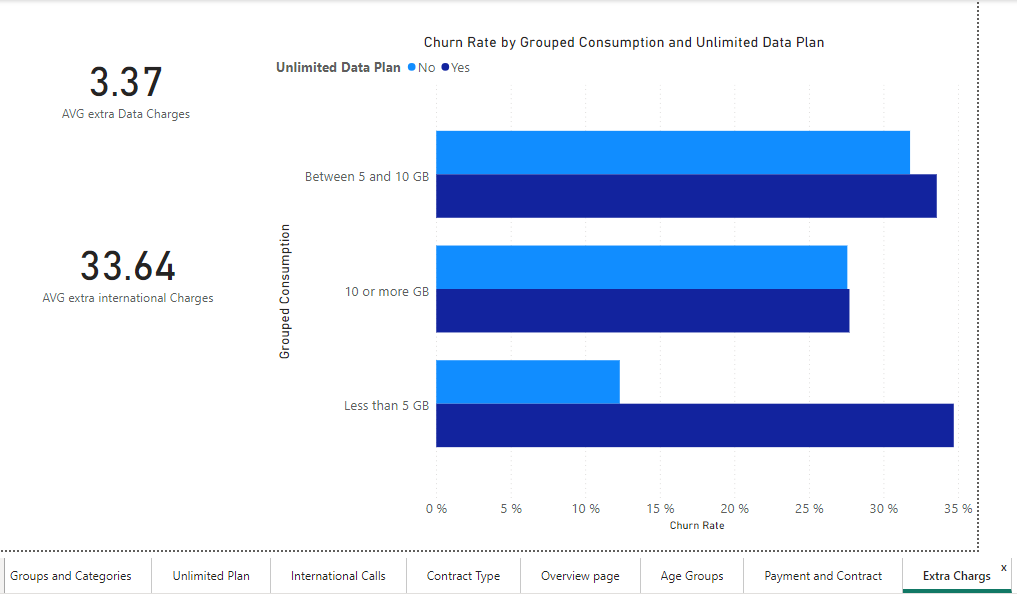

The page's visual inventory and layout, read from the dashboard file:
{"tool":"powerbi","page":{"name":"Extra Chargs","canvas":[1280,720],"ordinal":8},"visuals":[{"type":"clusteredBarChart","fields":{"Category":["Databel - Data.Grouped Consumption"],"Y":["Databel - Data.Churn Rate"],"Series":["Databel - Data.Unlimited Data Plan"]},"box":[357.8,42.7,922.2,657.9],"z":0},{"type":"card","fields":{"Values":["Databel - Data.AVG extra Data Charges"]},"box":[11,11,311.1,199.6],"z":1},{"type":"card","fields":{"Values":["Databel - Data.AVG extra international Charges"]},"box":[13.8,240.9,308.3,220.2],"z":2}]}

Visuals, with their boxes on the page's 1280x720 design canvas (x1, y1, x2, y2). These are canvas units, not pixel positions in the 1017x594 screenshot, which may show the page scaled, cropped or inside an application window:
clusteredBarChart - Databel - Data.Grouped Consumption x Databel - Data.Churn Rate: select_region(358, 43, 1280, 701)
card - Databel - Data.AVG extra Data Charges: select_region(11, 11, 322, 211)
card - Databel - Data.AVG extra international Charges: select_region(14, 241, 322, 461)
